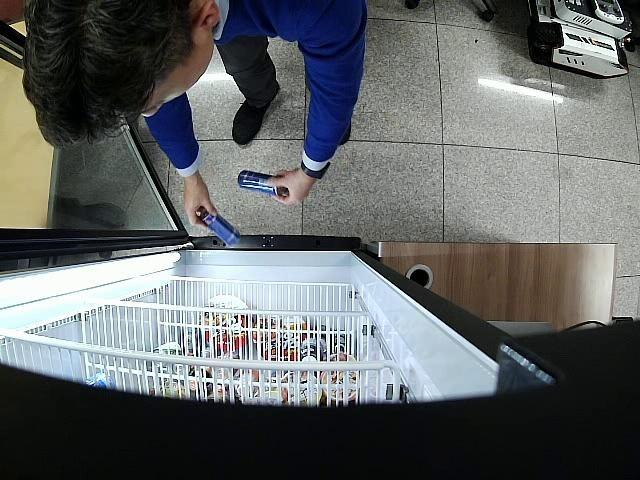16_hot6: (198, 207, 244, 248), (238, 169, 286, 196)
